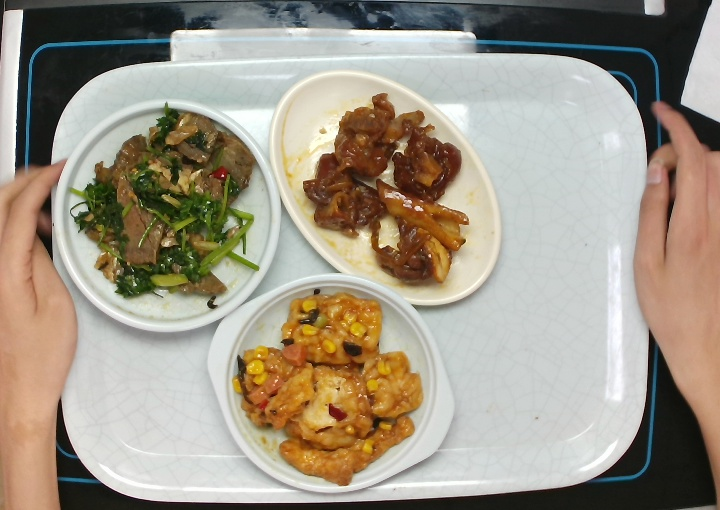JYsf-Shuang_Er_Pan: (209, 270, 462, 495)
JYsf-Tuo_Yuan_Wan: (268, 66, 506, 313)
JYsf-Xiao_Yuan_Pan: (47, 101, 286, 336)
